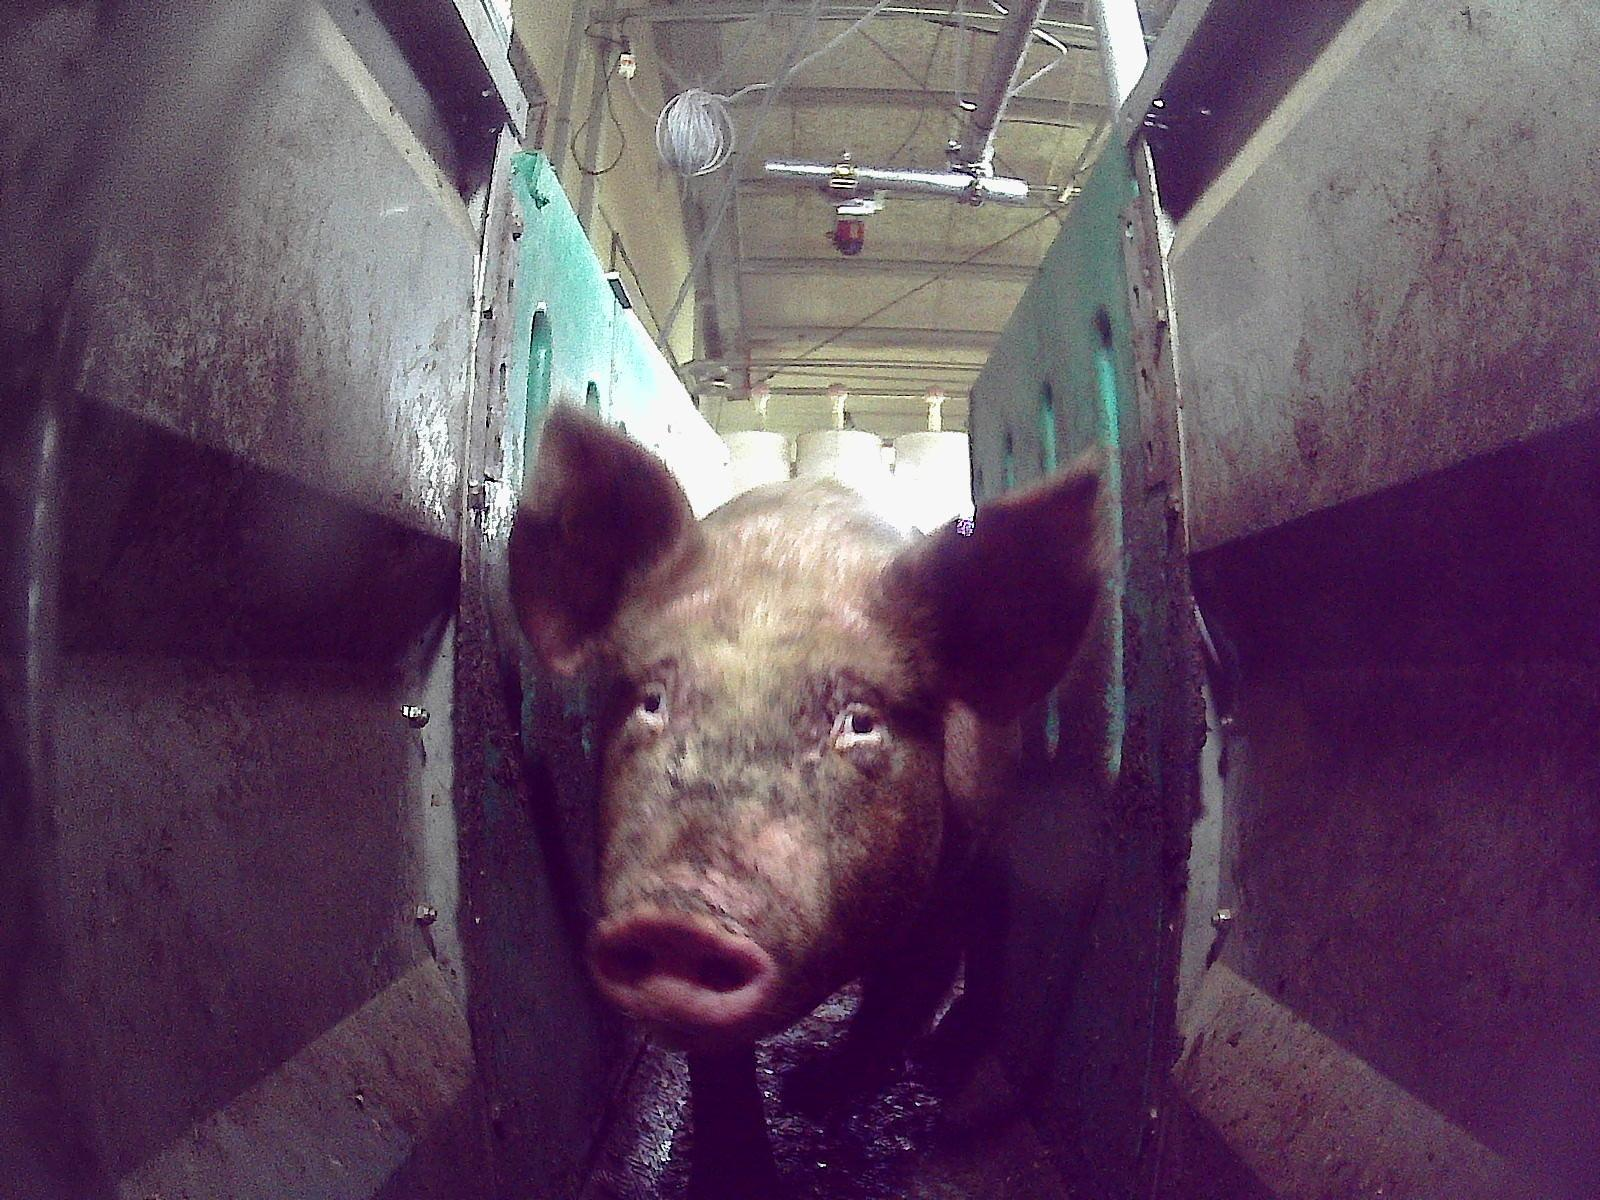Face: (585, 527, 939, 1050)
